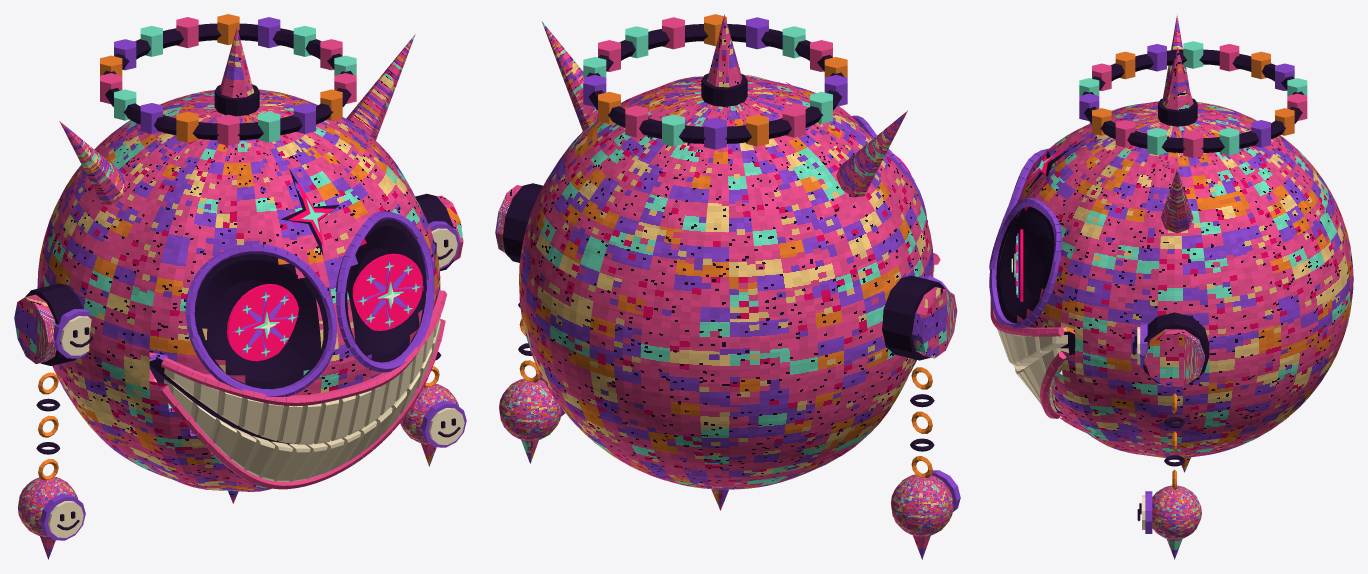
File: grin-visual.glb
3 renders of one model, left to right at view 1: azimuth 30°, elevation 25°; view 2: azimuth 150°, elevation 25°; view 3: azimuth 270°, elevation 25°, orthographic. The views are drawn at different scales.
Parts seen in each view (by area): view 1: grin_orb_shell_shell, grin_orb_shell_dark, grin_orb_halo_shell, grin_orb_shell_teeth, grin_orb_eyes_eyes, grin_orb_jaw_teeth, grin_orb_halo_dark, grin_orb_charm_left_shell, grin_orb_jaw_shell, grin_orb_charm_right_shell, grin_orb_charm_left_teeth, grin_orb_charm_right_teeth (+2 smaller); view 2: grin_orb_shell_shell, grin_orb_halo_shell, grin_orb_shell_dark, grin_orb_charm_left_shell, grin_orb_halo_dark, grin_orb_charm_right_shell; view 3: grin_orb_shell_shell, grin_orb_halo_shell, grin_orb_shell_dark, grin_orb_halo_dark, grin_orb_charm_right_shell, grin_orb_shell_teeth, grin_orb_jaw_teeth, grin_orb_jaw_shell, grin_orb_eyes_eyes.
Part boxes in pixels (box(x1,y1,x2,y2)): grin_orb_shell_shell: box(14, 27, 463, 503); grin_orb_shell_dark: box(25, 84, 453, 470); grin_orb_halo_shell: box(100, 14, 356, 145); grin_orb_shell_teeth: box(60, 228, 457, 444); grin_orb_eyes_eyes: box(227, 253, 422, 361); grin_orb_jaw_teeth: box(164, 320, 440, 482); grin_orb_halo_dark: box(103, 23, 353, 139); grin_orb_charm_left_shell: box(18, 372, 85, 559); grin_orb_jaw_shell: box(159, 319, 445, 489); grin_orb_charm_right_shell: box(400, 366, 466, 466); grin_orb_charm_left_teeth: box(48, 501, 83, 537); grin_orb_charm_right_teeth: box(429, 408, 464, 444); grin_orb_shell_shell: box(495, 14, 957, 510); grin_orb_halo_shell: box(583, 14, 847, 149); grin_orb_shell_dark: box(502, 73, 945, 360); grin_orb_charm_left_shell: box(890, 367, 960, 559); grin_orb_halo_dark: box(586, 24, 844, 143); grin_orb_charm_right_shell: box(499, 319, 565, 463); grin_orb_shell_shell: box(989, 14, 1353, 472); grin_orb_halo_shell: box(1079, 41, 1307, 157); grin_orb_shell_dark: box(996, 98, 1209, 413); grin_orb_halo_dark: box(1082, 49, 1303, 152); grin_orb_charm_right_shell: box(1145, 393, 1201, 559); grin_orb_shell_teeth: box(997, 327, 1140, 366); grin_orb_jaw_teeth: box(1014, 348, 1069, 411); grin_orb_jaw_shell: box(1040, 351, 1066, 418); grin_orb_eyes_eyes: box(1011, 229, 1023, 301).
Size of the model in its own units: 3.58 by 3.83 by 2.93.
Materials: 4 (2 with a texture image).
